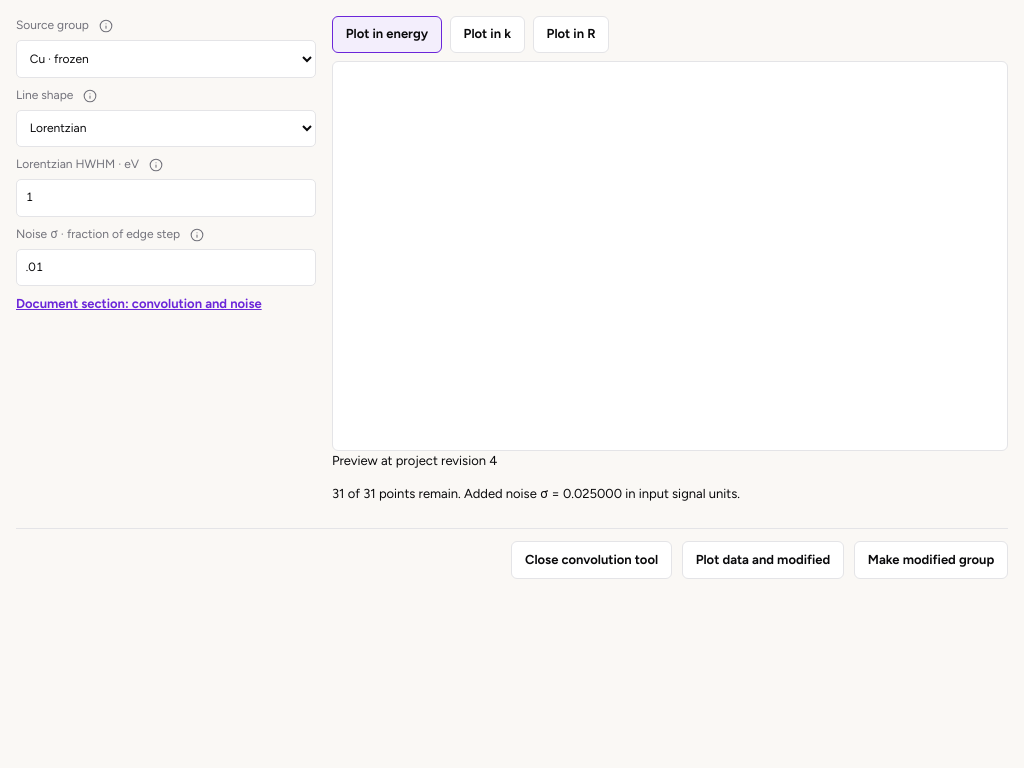
it: keeps editable values after a failed save and releases busy state
Click the button "Make modified group".
click(931, 560)  # box [854,541,1008,579]
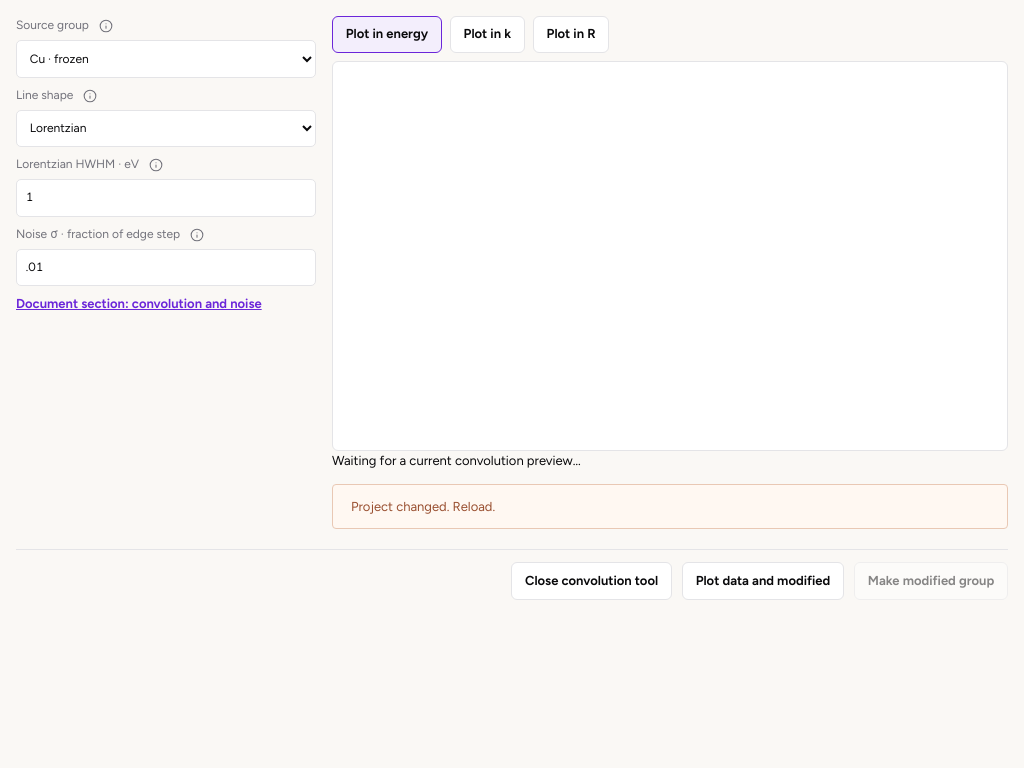
Expected: the number field labelled "Lorentzian HWHM · eV" holds "1", [16,179,316,217]
Expected: the message "Project changed. Reload." is shown, [332,484,1008,529]
Expected: the button "Make modified group" is disabled, [854,562,1008,600]
